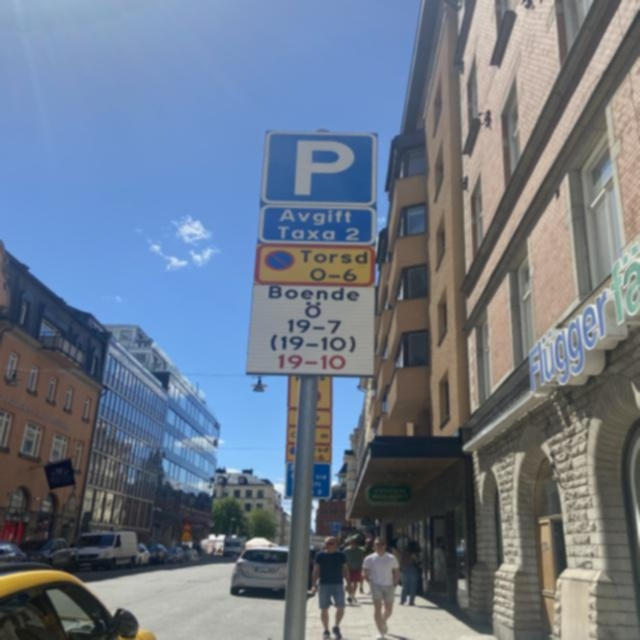P-skylt: (262, 128, 376, 206)
